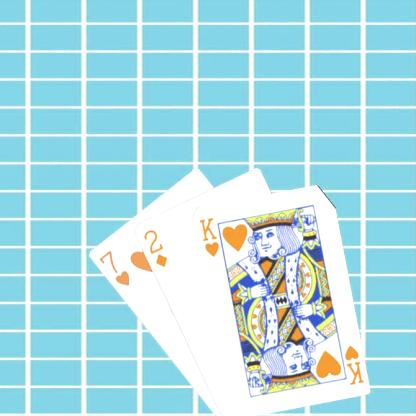2D: (140, 226, 169, 269)
7H: (96, 247, 131, 288)
KH: (197, 214, 221, 258), (341, 342, 364, 386)
